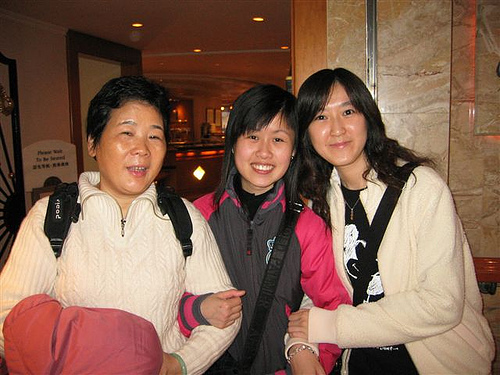without_mask: (94, 87, 179, 198), (217, 93, 303, 196), (298, 77, 383, 172)
